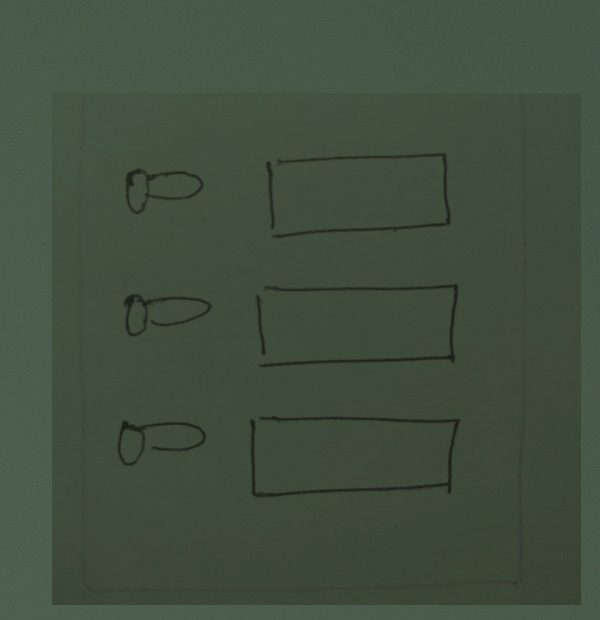switch: (113, 282, 218, 349), (115, 153, 209, 223), (108, 413, 211, 472)
text_input: (235, 404, 473, 506), (242, 271, 465, 377), (254, 147, 459, 247)
